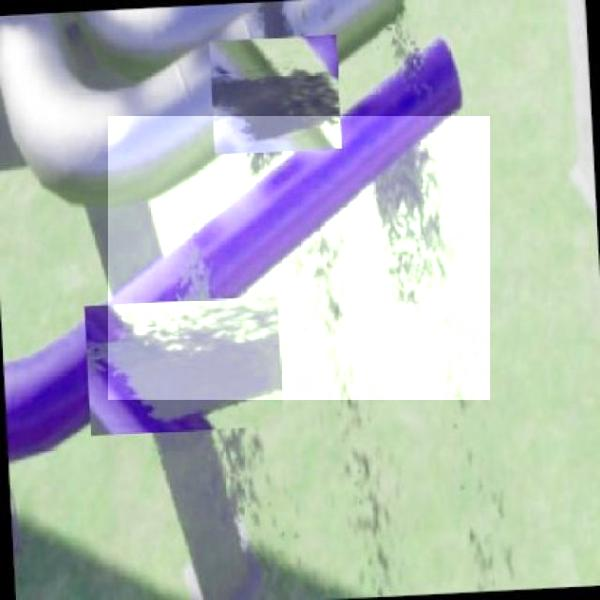gas: (108, 116, 490, 400)
